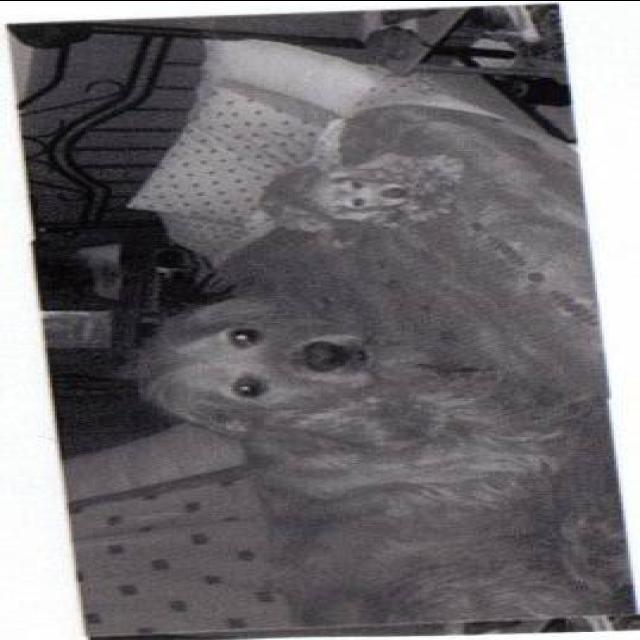dog: (240, 151, 477, 239)
